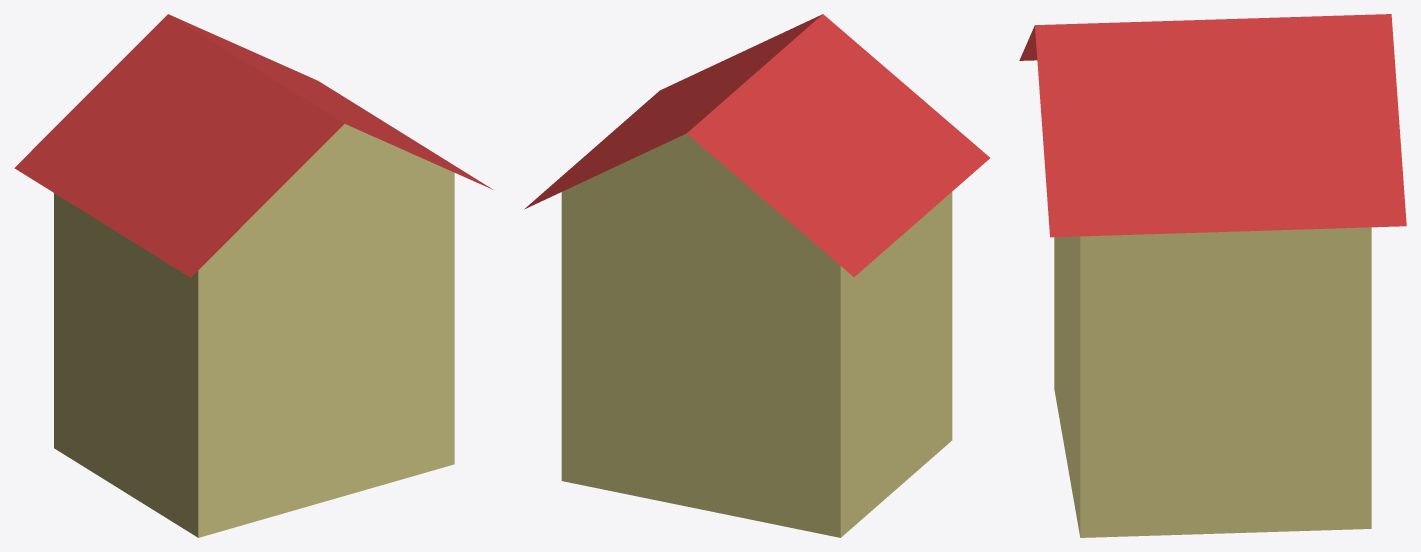
3 views of the same model, side by side, from view 1: azimuth 30°, elevation 25°; view 2: azimuth 150°, elevation 25°; view 3: azimuth 270°, elevation 25° (orthographic). The views are drawn at different scales.
Bounding box in the file's own units: 10.16 × 8.87 × 11.13.
